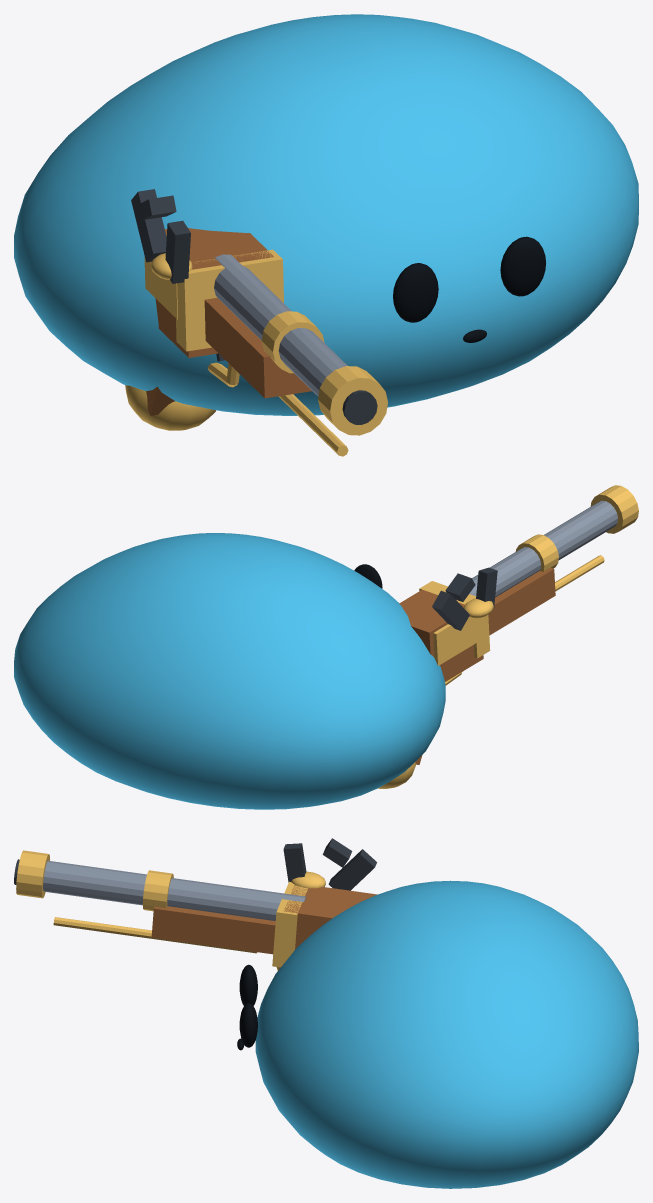
File: gun-slime.glb
3 views of the same model, one above another, from view 1: azimuth 30°, elevation 25°; view 2: azimuth 150°, elevation 25°; view 3: azimuth 270°, elevation 25° (orthographic). The views are drawn at different scales.
Visible parts, largest first — view 1: Body, Gun_Barrel, Gun_Forestock, Gun_BreechBand, Gun_Breech, Gun_MuzzleRing, Eye_L, Eye_R, Gun_Pommel, Gun_BarrelBand, Gun_Cock, Gun_Frizzen (+4 smaller); view 2: Body, Gun_Barrel, Gun_Breech, Gun_Forestock, Gun_LockPlate, Gun_MuzzleRing, Gun_Cock, Gun_BreechBand, Gun_BarrelBand, Gun_Frizzen, Gun_CockJaw, Gun_Ramrod; view 3: Body, Gun_Barrel, Gun_Forestock, Gun_Breech, Gun_BreechBand, Gun_MuzzleRing, Gun_Ramrod, Gun_Cock, Gun_BarrelBand, Gun_Frizzen, Eye_R, Eye_L (+1 smaller).
Part boxes in pixels (x1,y1,x2,y2): Body: (14, 14, 638, 415); Gun_Barrel: (214, 254, 347, 396); Gun_Forestock: (204, 297, 311, 398); Gun_BreechBand: (176, 249, 283, 351); Gun_Breech: (155, 228, 273, 357); Gun_MuzzleRing: (318, 366, 387, 435); Eye_L: (393, 263, 438, 322); Eye_R: (500, 236, 545, 296); Gun_Pommel: (125, 385, 215, 430); Gun_BarrelBand: (261, 311, 324, 373); Gun_Cock: (131, 189, 166, 262); Gun_Frizzen: (165, 220, 190, 283); Body: (14, 533, 445, 809); Gun_Barrel: (469, 500, 617, 597); Gun_Breech: (399, 589, 483, 681); Gun_Forestock: (488, 568, 555, 635); Gun_LockPlate: (433, 617, 479, 665); Gun_MuzzleRing: (590, 485, 638, 533); Gun_Cock: (432, 590, 469, 630); Gun_BreechBand: (419, 581, 490, 658); Gun_BarrelBand: (515, 534, 558, 571); Gun_Frizzen: (476, 567, 497, 608); Gun_CockJaw: (445, 573, 475, 601); Gun_Ramrod: (555, 555, 604, 591); Body: (255, 880, 638, 1188); Gun_Barrel: (43, 860, 305, 920); Gun_Forestock: (151, 906, 275, 954); Gun_Breech: (279, 885, 377, 969); Gun_BreechBand: (272, 881, 307, 967); Gun_MuzzleRing: (16, 850, 49, 898); Gun_Ramrod: (53, 917, 257, 953); Gun_Cock: (328, 849, 376, 890); Gun_BarrelBand: (142, 870, 173, 911); Gun_Frizzen: (283, 843, 306, 882); Eye_R: (239, 1003, 257, 1047); Eye_L: (239, 964, 257, 1005).
Bounding box in the file's own units: 2.43 × 1.25 × 3.11.
